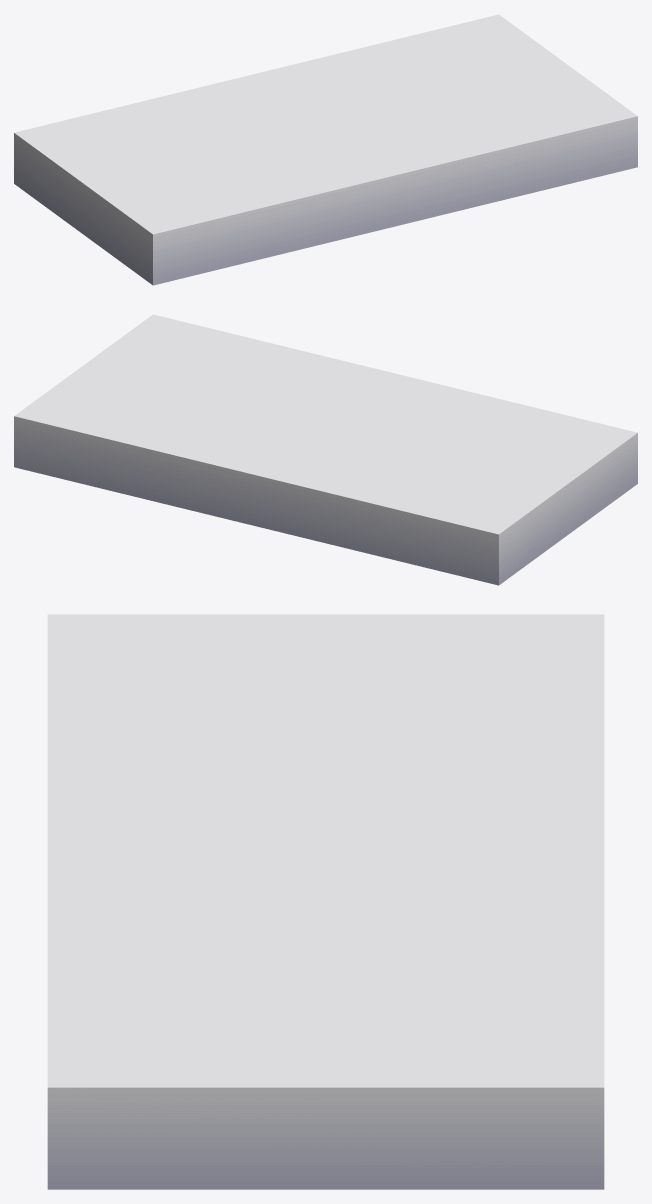
File: brick-kit--none-lq-plate-2x4.glb
The picture shows the model from 3 angles, top to bottom: view 1: azimuth 30°, elevation 25°; view 2: azimuth 150°, elevation 25°; view 3: azimuth 270°, elevation 25°; orthographic projection. The views are drawn at different scales.
Parts seen in each view (by area): view 1: none-lq-plate-2x4; view 2: none-lq-plate-2x4; view 3: none-lq-plate-2x4.
Part boxes in pixels (x1=…): none-lq-plate-2x4: x1=14, y1=14, x2=637, y2=285; none-lq-plate-2x4: x1=14, y1=314, x2=637, y2=585; none-lq-plate-2x4: x1=47, y1=614, x2=604, y2=1189.
Bounding box in the file's own units: 0.318 × 0.032 × 0.158.
1 material, 1 textured.
